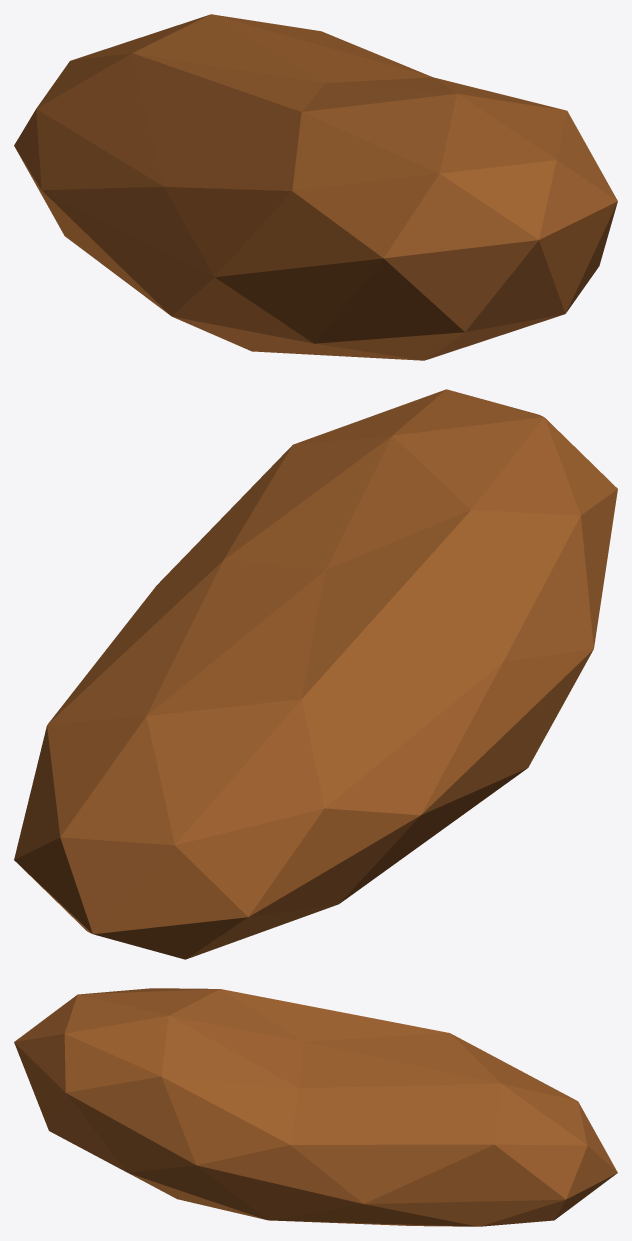
Rendered from RockLarge.dae.
The picture shows the model from 3 angles, top to bottom: view 1: azimuth 30°, elevation 25°; view 2: azimuth 150°, elevation 25°; view 3: azimuth 270°, elevation 25°; orthographic projection. The views are drawn at different scales.
Visible parts, largest first — view 1: RockBig; view 2: RockBig; view 3: RockBig.
Part boxes in pixels (bbox=[...]): RockBig: bbox=[14, 14, 617, 360]; RockBig: bbox=[14, 389, 617, 959]; RockBig: bbox=[14, 988, 617, 1226].
Size of the model in its own units: 1.42 by 2.89 by 1.08.
